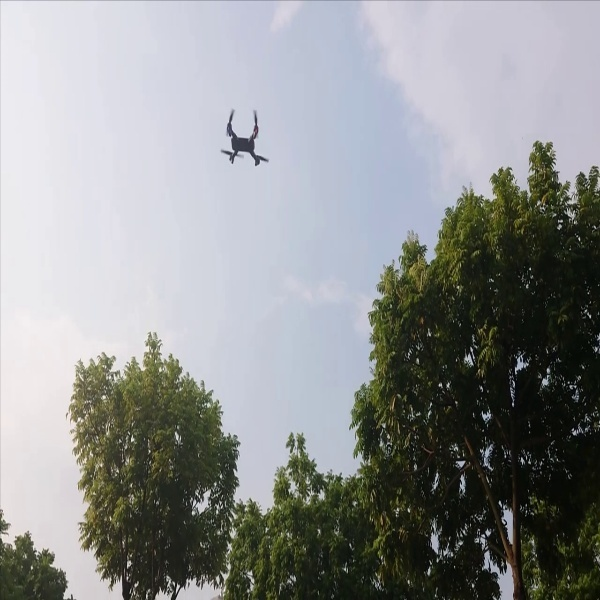drone: (218, 101, 275, 174)
